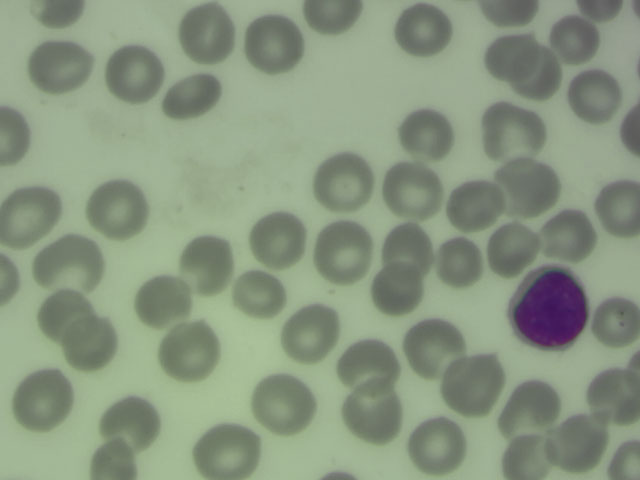RBC: (399, 112, 454, 162), (541, 210, 596, 260), (502, 162, 557, 212), (485, 106, 540, 156), (585, 371, 640, 421), (488, 227, 543, 277), (448, 179, 503, 229), (431, 236, 486, 286), (369, 263, 424, 313), (379, 224, 434, 274), (385, 168, 440, 218), (315, 228, 370, 278), (317, 158, 372, 208), (250, 212, 305, 262), (406, 321, 461, 371), (447, 361, 502, 411), (503, 380, 558, 430), (551, 417, 606, 467), (411, 419, 466, 469), (346, 388, 401, 438), (343, 341, 398, 391), (283, 309, 338, 359), (255, 380, 310, 430), (232, 269, 287, 319), (180, 239, 235, 289), (136, 277, 191, 327), (161, 328, 216, 378), (199, 428, 254, 478), (102, 396, 157, 446), (16, 375, 71, 425), (61, 318, 116, 368), (36, 289, 91, 339), (40, 236, 95, 286), (248, 20, 303, 70), (179, 6, 234, 56), (165, 73, 220, 123), (108, 48, 163, 98), (90, 184, 145, 234), (1, 189, 56, 239), (31, 39, 86, 89), (566, 73, 621, 123), (552, 16, 607, 66), (481, 32, 536, 82), (501, 430, 556, 479), (393, 5, 449, 53), (596, 180, 640, 236), (594, 294, 640, 341), (85, 440, 135, 480), (525, 53, 568, 99), (304, 1, 359, 34), (481, 1, 543, 30), (1, 109, 29, 162), (1, 251, 27, 306), (27, 1, 81, 27), (612, 441, 640, 480)
WBC: (513, 271, 594, 352)
